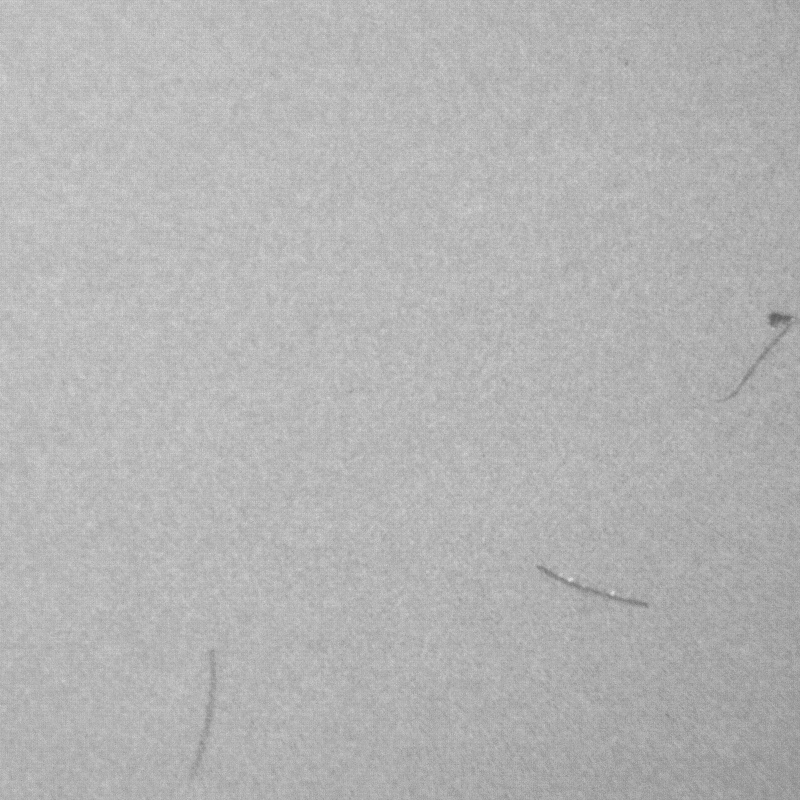defect: (539, 563, 656, 614), (728, 313, 797, 396), (188, 649, 220, 790)
